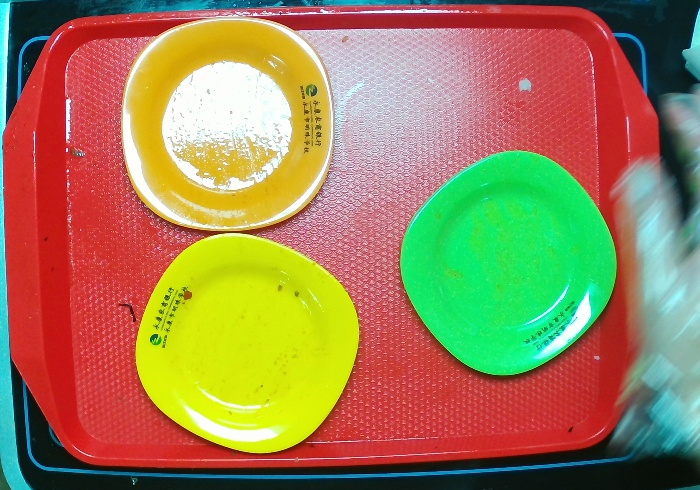YKMZ-Huang_Se_Fang_Die: (133, 235, 362, 458)
YKMZ-Ju_Se_Fang_Die: (118, 15, 335, 229)
YKMZ-Lv_Se_Fang_Die: (391, 148, 625, 385)
